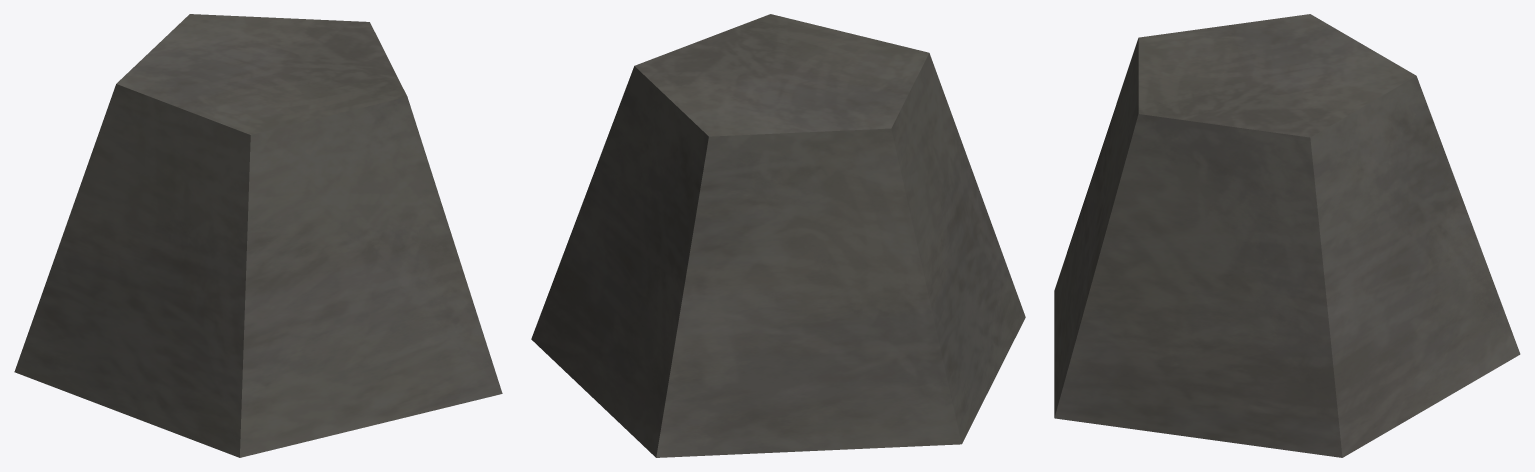
Rendered from ZachMesaRock23.fbx.
3 renders of one model, left to right at view 1: azimuth 30°, elevation 25°; view 2: azimuth 150°, elevation 25°; view 3: azimuth 270°, elevation 25°, orthographic.
Visible parts, largest first — view 1: ZachMesaRock23; view 2: ZachMesaRock23; view 3: ZachMesaRock23.
Boxes of the visible parts, x1,y1,x2,y2 form: ZachMesaRock23: (14, 14, 502, 457); ZachMesaRock23: (531, 14, 1025, 457); ZachMesaRock23: (1054, 14, 1520, 457).
Bounding box in the file's own units: 3.19 × 2 × 3.03.
